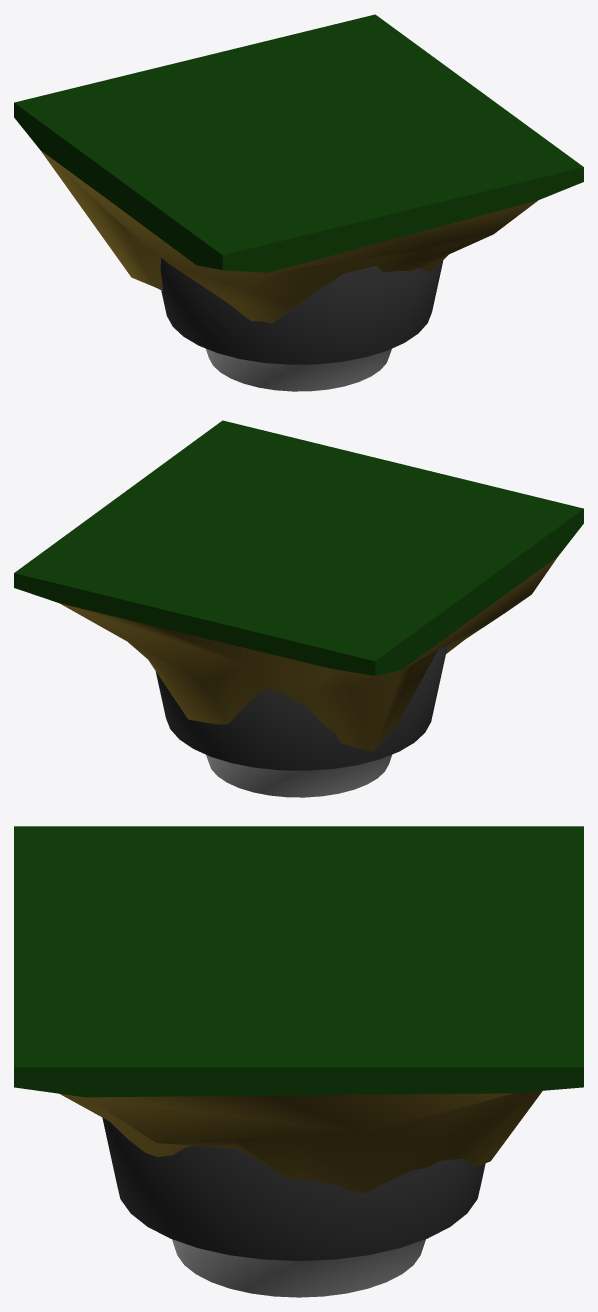
The model's file is Island1.fbx.
3 renders of one model, top to bottom at view 1: azimuth 30°, elevation 25°; view 2: azimuth 150°, elevation 25°; view 3: azimuth 270°, elevation 25°, orthographic. The views are drawn at different scales.
Visible parts, largest first — view 1: Island1; view 2: Island1; view 3: Island1.
Part boxes in pixels (x1,y1,x2,y2): Island1: [14, 14, 583, 391]; Island1: [14, 420, 583, 797]; Island1: [14, 826, 583, 1297].
Bounding box in the file's own units: 6301 × 3639 × 6301.
